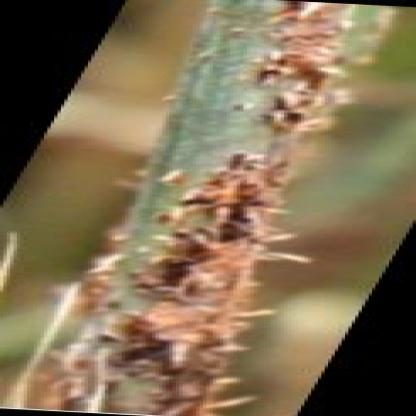wheat Stem Rust: (126, 228, 268, 284), (259, 7, 332, 94), (126, 301, 266, 342), (134, 355, 230, 409), (180, 168, 271, 222), (258, 101, 308, 127)
